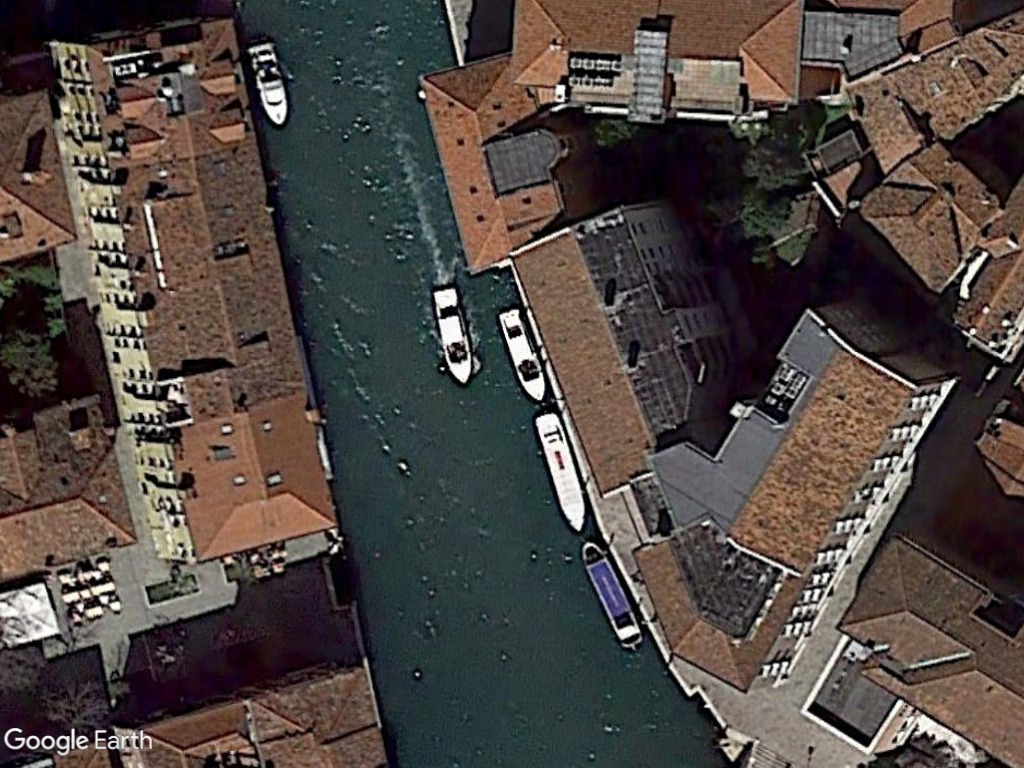boat: (577, 538, 646, 655), (531, 407, 589, 535), (492, 305, 548, 402), (429, 284, 476, 387), (244, 35, 294, 129)
